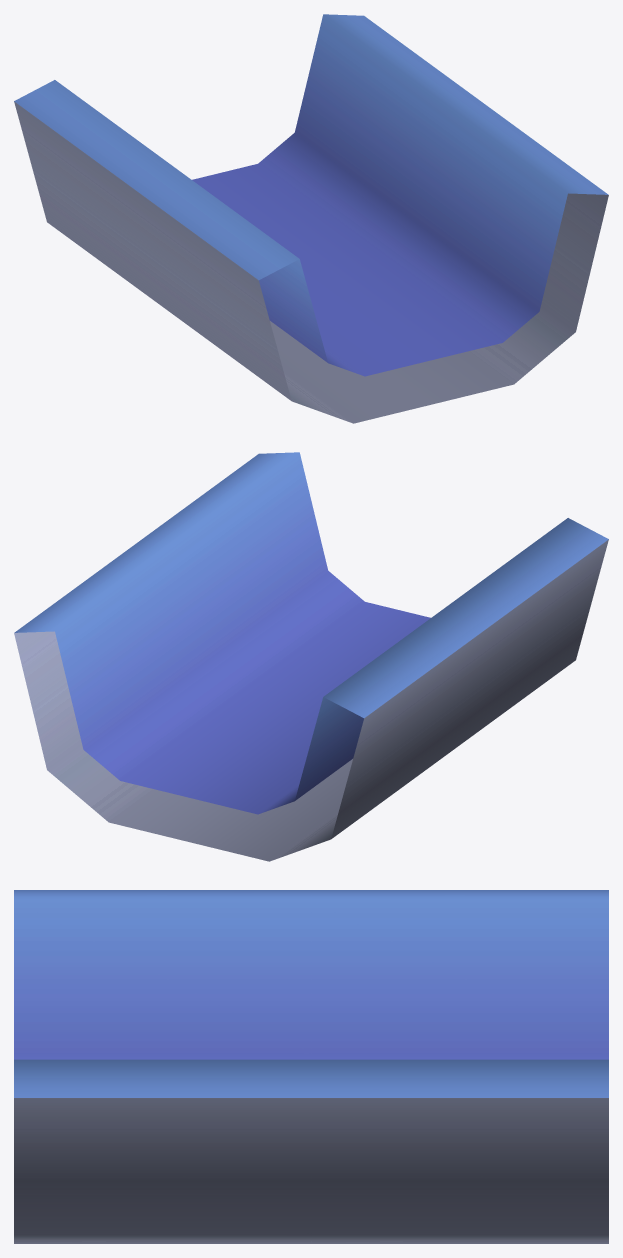
Rendered from coaster-flume-track.glb.
3 renders of one model, top to bottom at view 1: azimuth 30°, elevation 25°; view 2: azimuth 150°, elevation 25°; view 3: azimuth 270°, elevation 25°, orthographic. The views are drawn at different scales.
Visible parts, largest first — view 1: coaster-flume-track; view 2: coaster-flume-track; view 3: coaster-flume-track.
Boxes of the visible parts, bbox=[...] form: coaster-flume-track: bbox=[14, 14, 608, 423]; coaster-flume-track: bbox=[14, 452, 608, 861]; coaster-flume-track: bbox=[14, 890, 608, 1243].
Size of the model in its own units: 0.8259 by 0.4009 by 1.
Materials: 1 (1 with a texture image).
